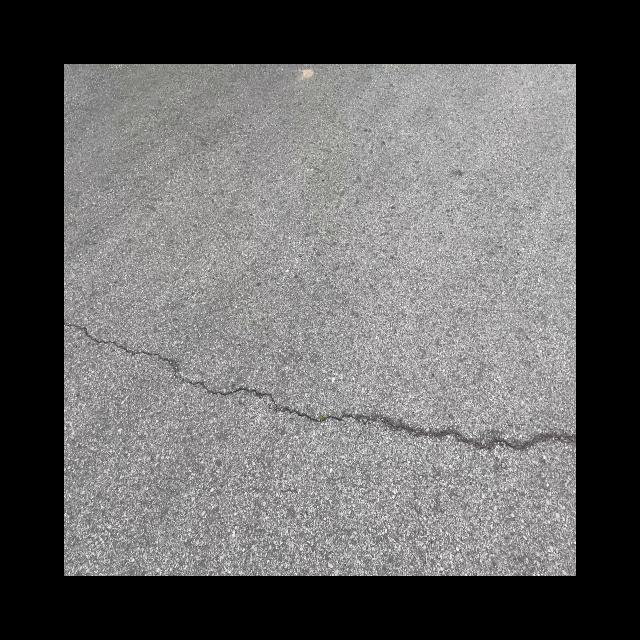retak_memanjang: (64, 307, 576, 489)
